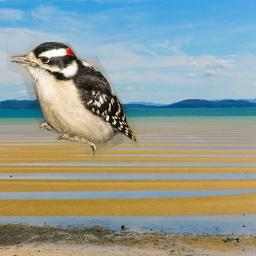Woodpecker: (7, 42, 139, 158)
